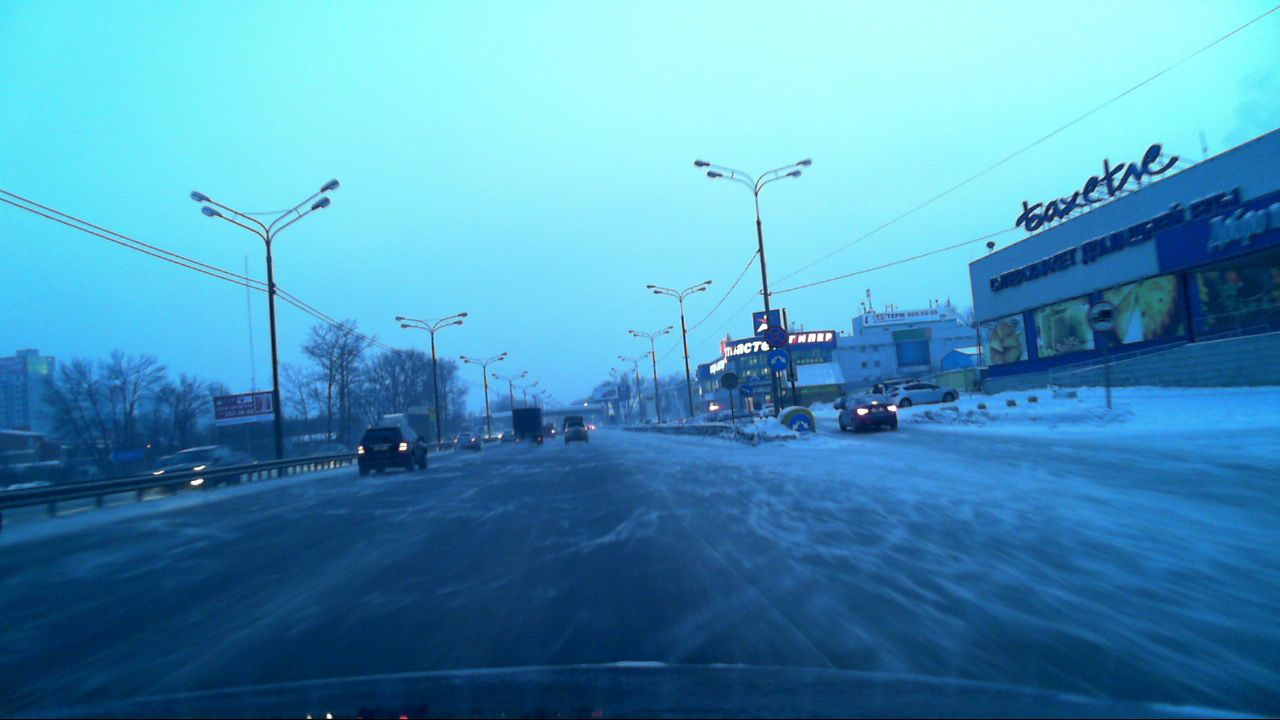No Parking: (764, 325, 787, 348)
